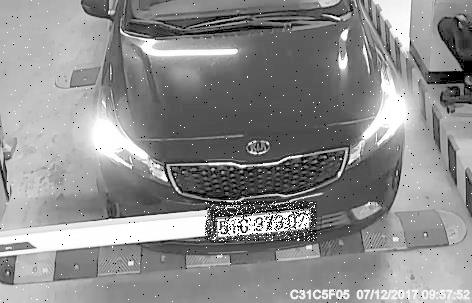License-plate: (206, 202, 318, 242)
